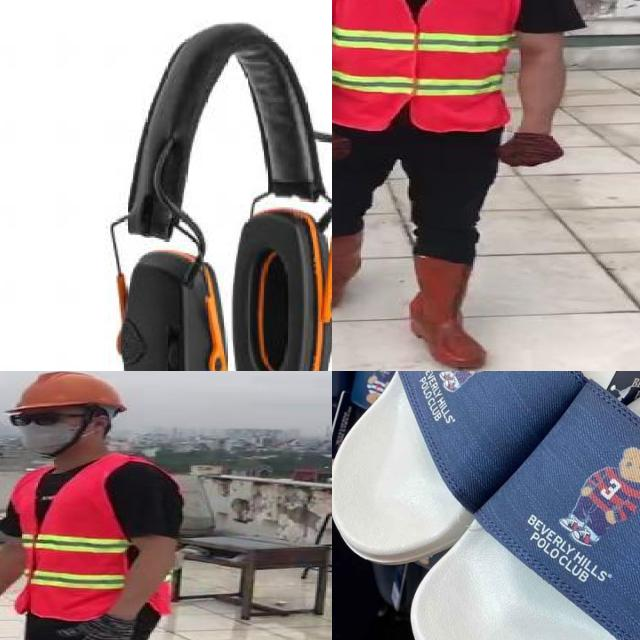Ear-protection: (129, 31, 332, 371)
Sandals: (332, 371, 640, 640)
boots: (406, 253, 488, 369), (332, 233, 362, 314)
face_mask: (8, 411, 82, 456)
glasses: (4, 408, 68, 428)
hand_glove: (496, 134, 564, 169), (61, 617, 134, 640), (332, 129, 350, 162)
head_helmet: (11, 371, 126, 414)
person: (332, 0, 587, 371), (0, 371, 201, 640)
vest: (10, 458, 176, 621), (332, 0, 524, 134)
